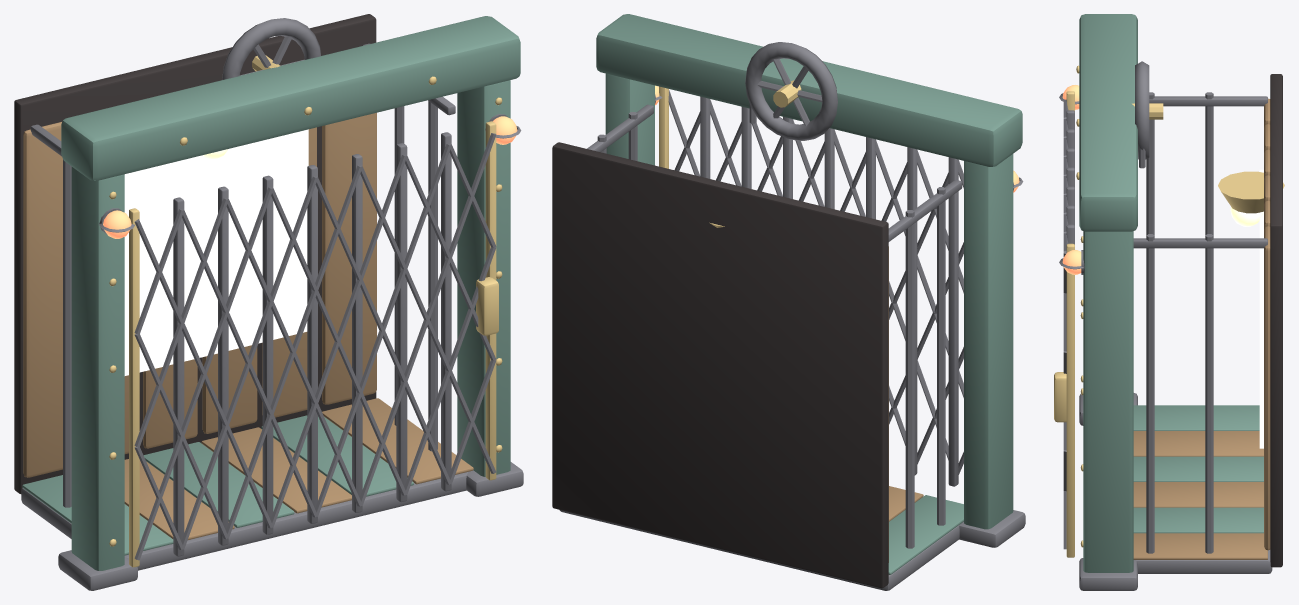
Rendered from portal.glb.
3 renders of one model, left to right at view 1: azimuth 30°, elevation 25°; view 2: azimuth 150°, elevation 25°; view 3: azimuth 270°, elevation 25°, orthographic. The views are drawn at different scales.
Visible parts, largest first — view 1: portal, door; view 2: portal, door; view 3: portal, door.
Boxes of the visible parts, x1=… form: portal: x1=14, y1=14, x2=523, y2=590; door: x1=129, y1=121, x2=498, y2=567; portal: x1=552, y1=14, x2=1025, y2=590; door: x1=659, y1=86, x2=963, y2=486; portal: x1=1059, y1=14, x2=1284, y2=590; door: x1=1054, y1=91, x2=1074, y2=557.
Size of the model in its own units: 1.05 by 1.14 by 0.55.
